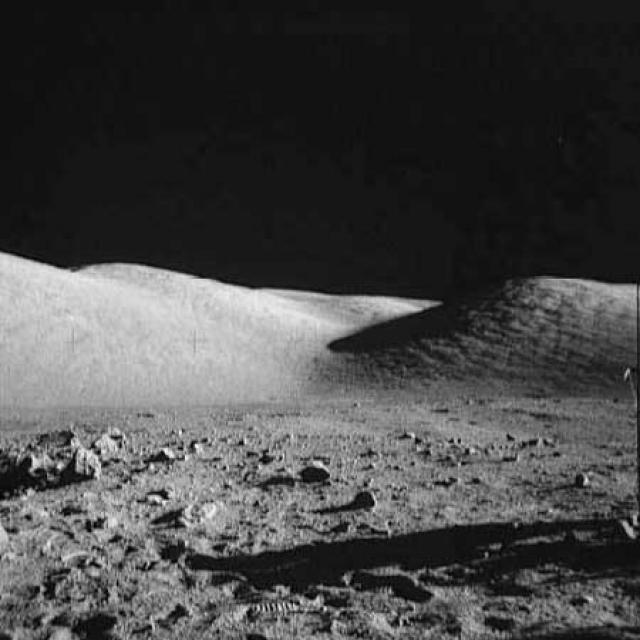rock: (7, 436, 52, 476), (65, 439, 100, 477), (180, 501, 223, 530), (99, 428, 135, 459), (298, 458, 330, 482), (564, 473, 596, 492)
